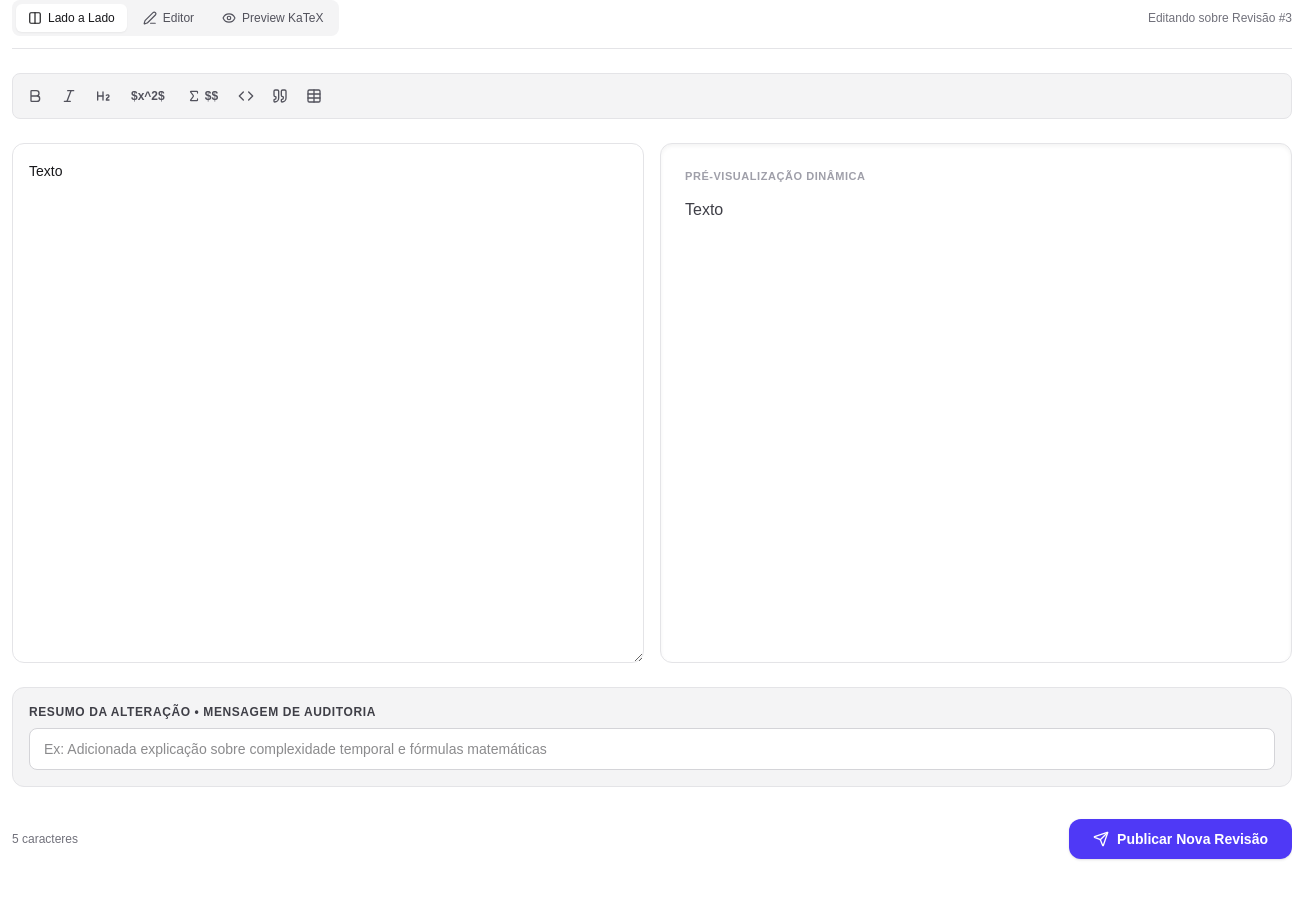
it: MaterialEditor Component › passes baseRevisionNumber and handles concurrency conflict error
The image size is (1304, 898).
Replace the text in the field with placeholder "Ex: Adicionada explicação" with "Tentativa". click: (652, 749)
box: [29,728,1275,770]
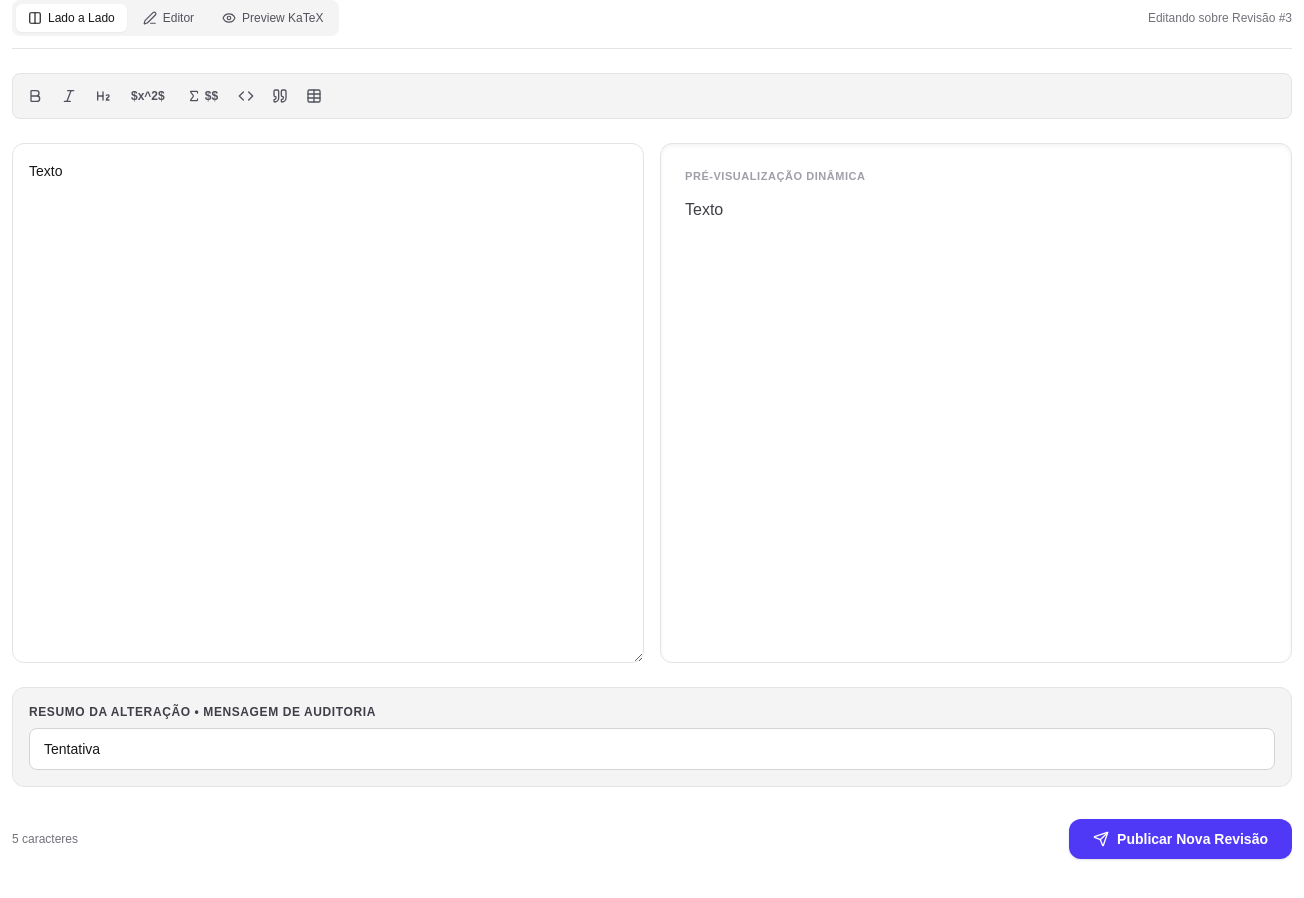
Click the button "Publicar Nova Revisão". click: (1180, 839)
box: [1069,819,1292,859]
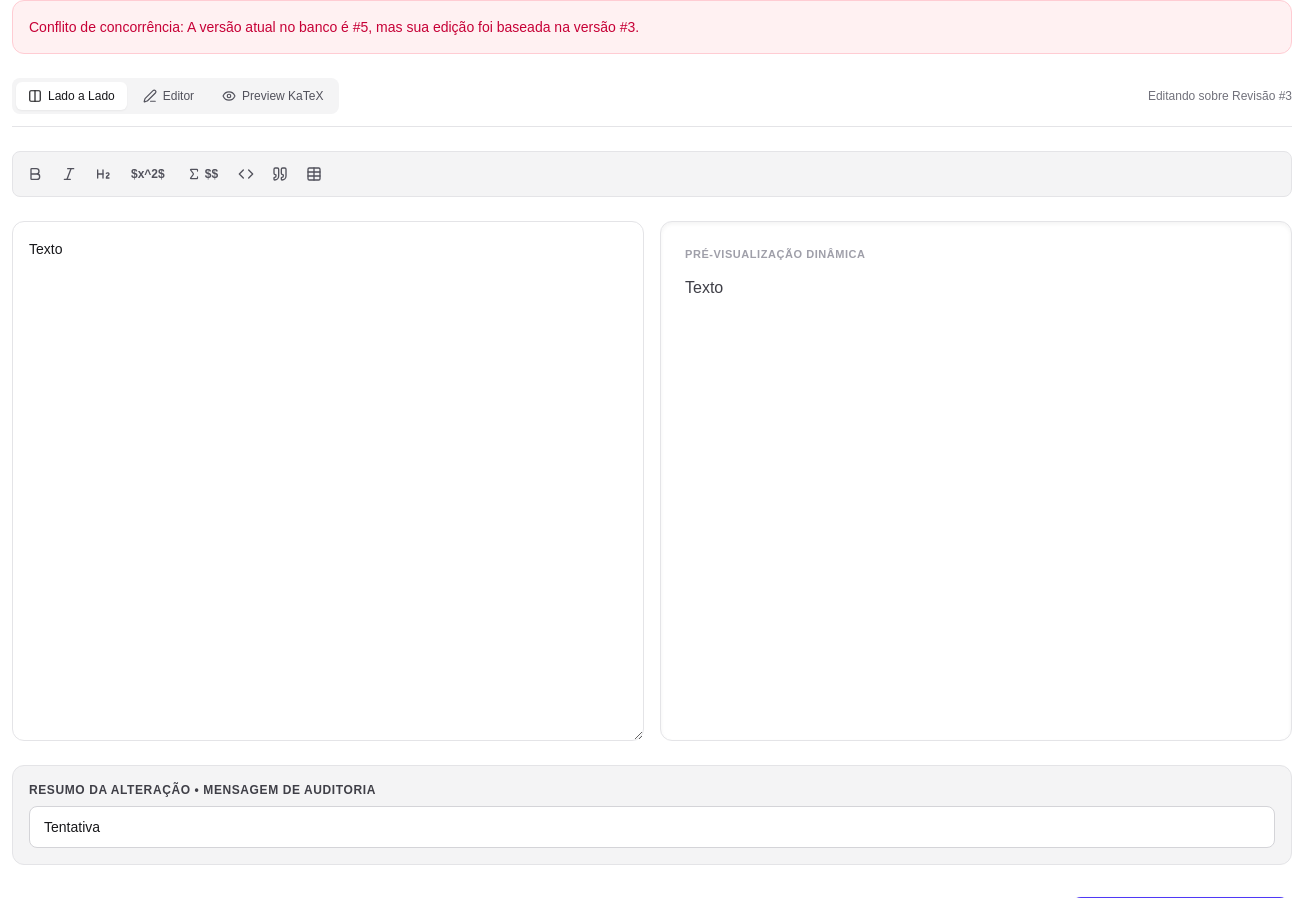
Result: the text "Conflito de concorrência" is shown at [29,19,639,35]
